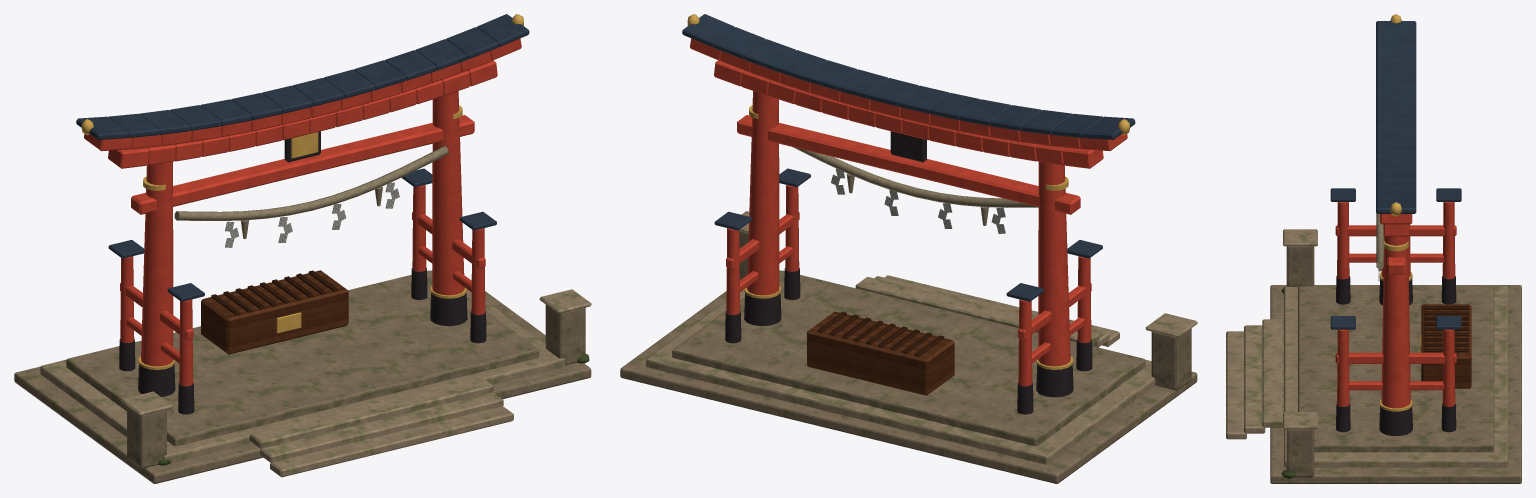
The model's file is env_gate_spirit.glb.
The picture shows the model from 3 angles, left to right: view 1: azimuth 30°, elevation 25°; view 2: azimuth 150°, elevation 25°; view 3: azimuth 270°, elevation 25°; orthographic projection. The views are drawn at different scales.
Visible parts, largest first — view 1: env_gate_spirit; view 2: env_gate_spirit; view 3: env_gate_spirit.
Part boxes in pixels (x1=…): env_gate_spirit: x1=14, y1=14, x2=591, y2=483; env_gate_spirit: x1=620, y1=14, x2=1197, y2=483; env_gate_spirit: x1=1226, y1=14, x2=1521, y2=483.
Bounding box in the file's own units: 9.3 × 6.16 × 5.88.
4 materials, 4 textured.
